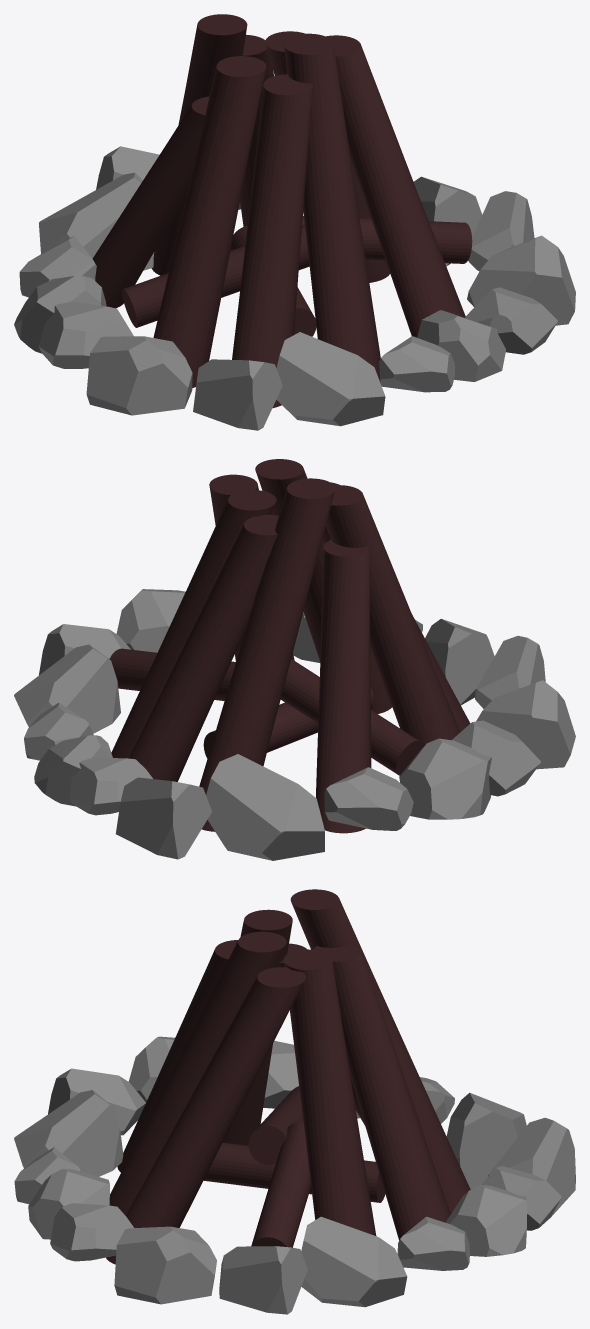
File: Fogueira.fbx
3 views of the same model, one above another, from view 1: azimuth 30°, elevation 25°; view 2: azimuth 150°, elevation 25°; view 3: azimuth 270°, elevation 25° (orthographic). The views are drawn at different scales.
Parts seen in each view (by area): view 1: Cylinder; view 2: Cylinder; view 3: Cylinder.
Part boxes in pixels (box(x1,y1,x2,y2)): Cylinder: box(14, 14, 575, 430); Cylinder: box(14, 459, 575, 860); Cylinder: box(14, 889, 575, 1314).
Size of the model in its own units: 1271 by 727 by 1274.
